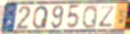2: (15, 5, 32, 31)
5: (65, 4, 82, 31)
9: (51, 5, 65, 30)
Q: (81, 4, 99, 30), (32, 5, 49, 30)
Z: (98, 6, 117, 28)
